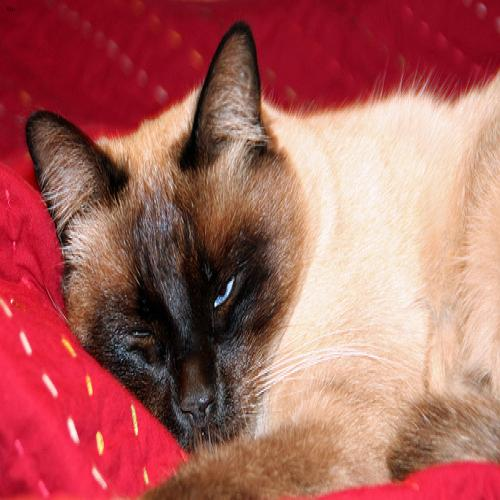siamese: (24, 15, 314, 459)
